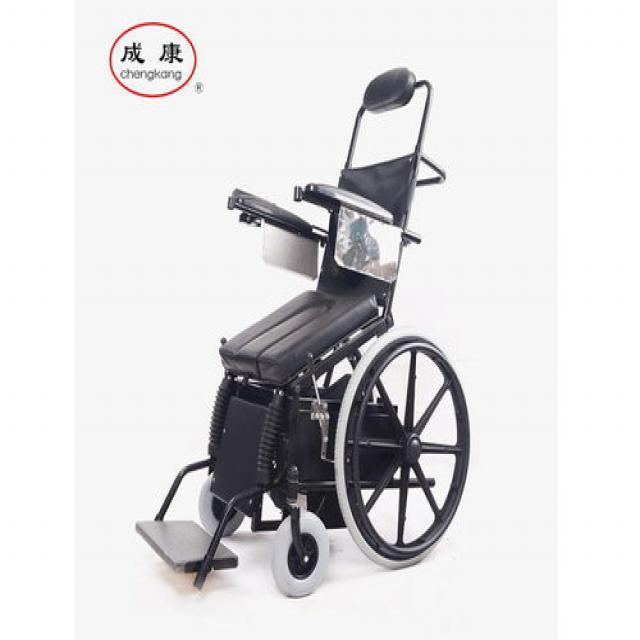wheelchairs: (143, 62, 475, 604)
